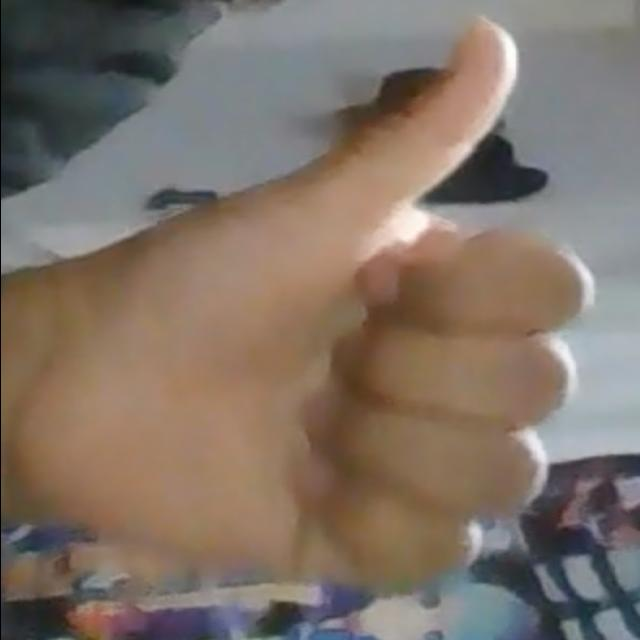A: (11, 3, 606, 599)
